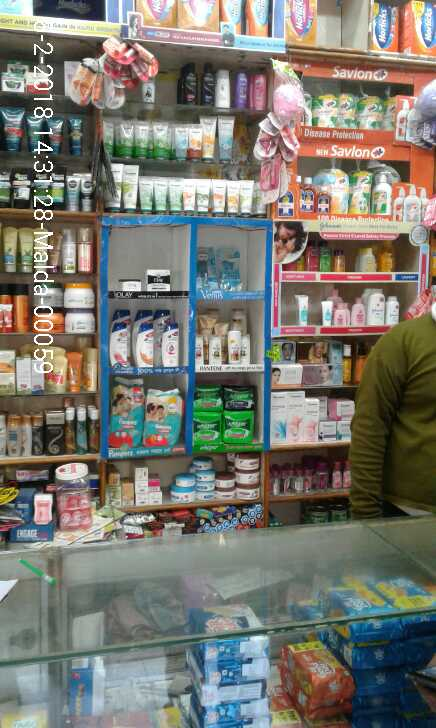venus: (219, 248, 242, 291), (197, 247, 217, 287)
